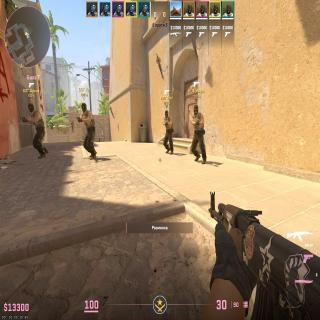T-Body: (28, 103, 46, 158), (80, 102, 96, 158), (190, 104, 205, 160), (162, 110, 175, 151)
T-Head: (193, 104, 199, 115), (28, 103, 34, 112), (81, 102, 87, 111), (164, 110, 168, 118)
